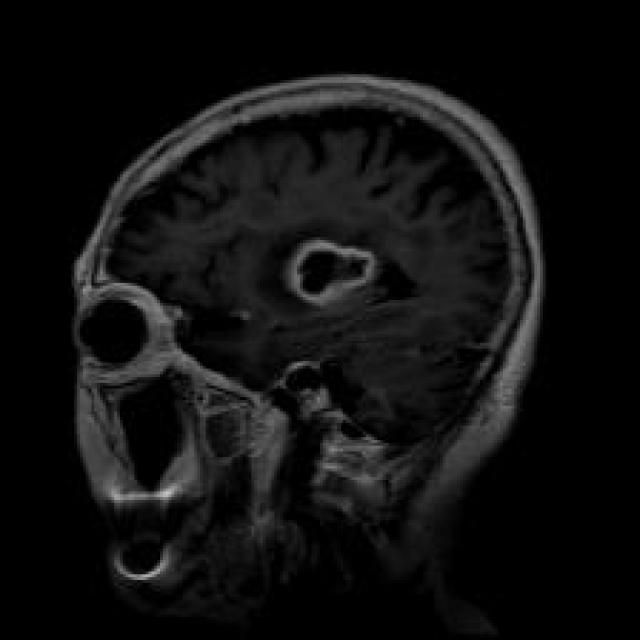glioma_tumor: (252, 225, 440, 318)
